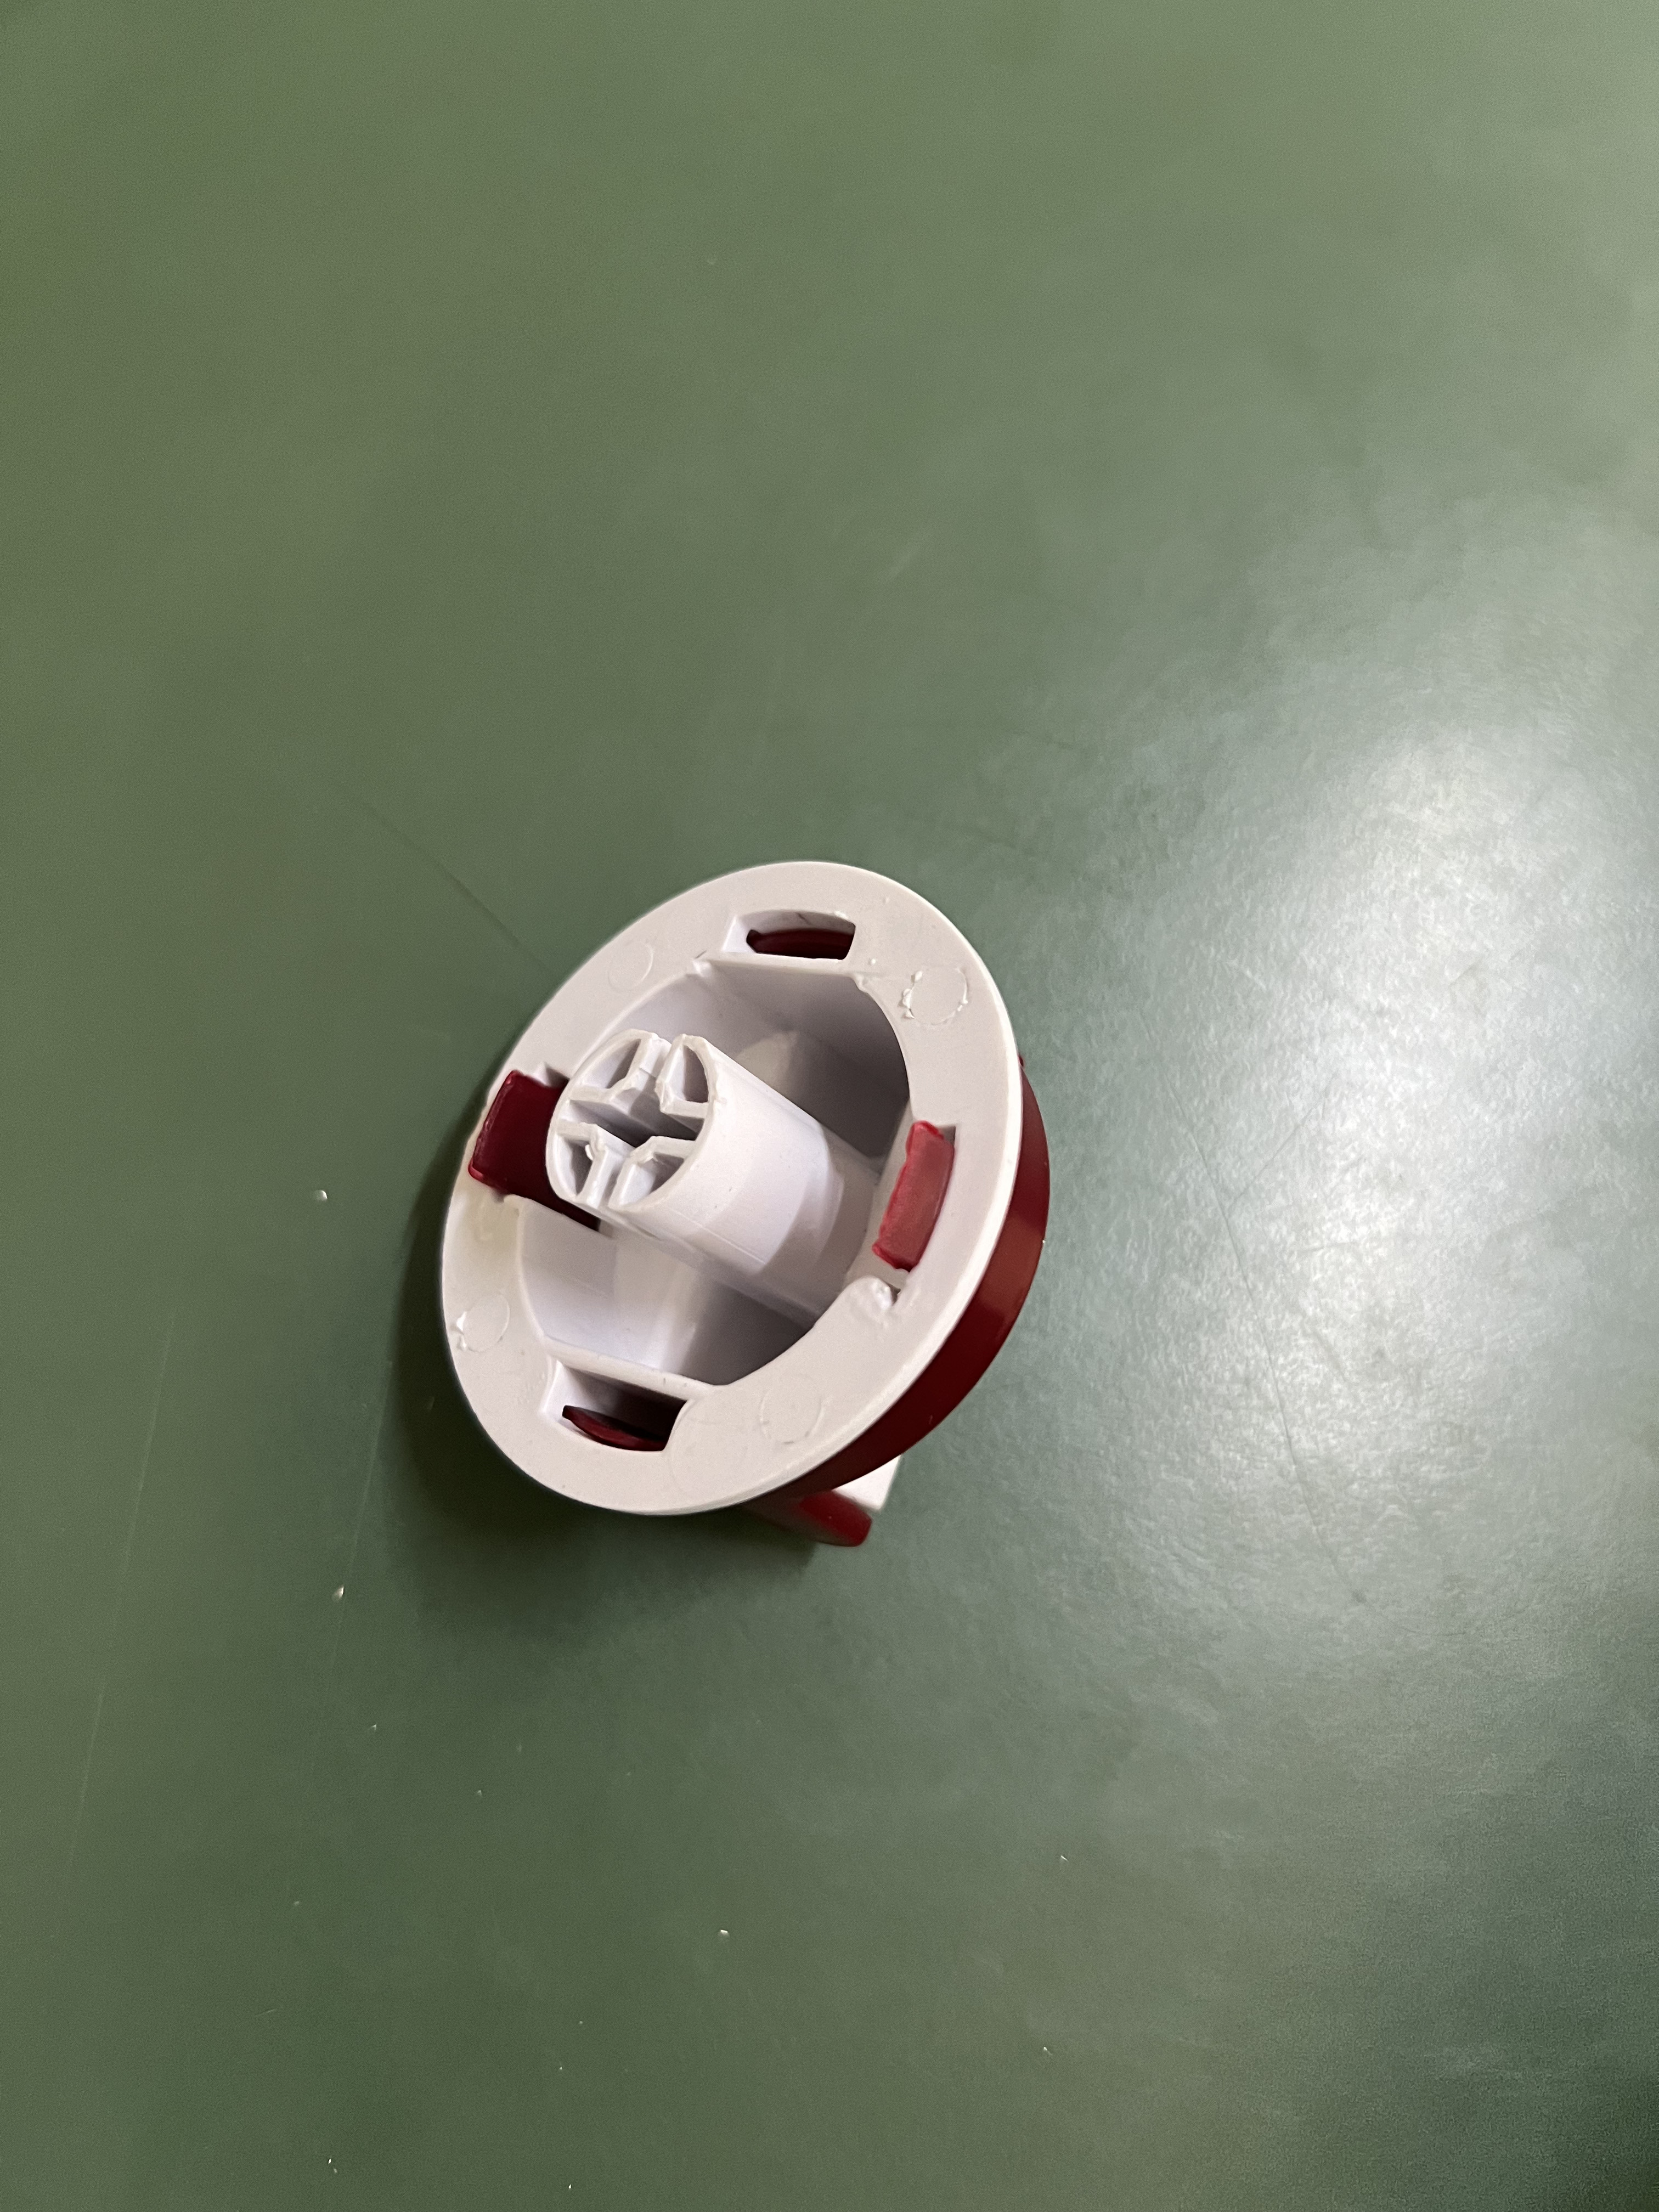regulator: (396, 850, 1068, 1587)
